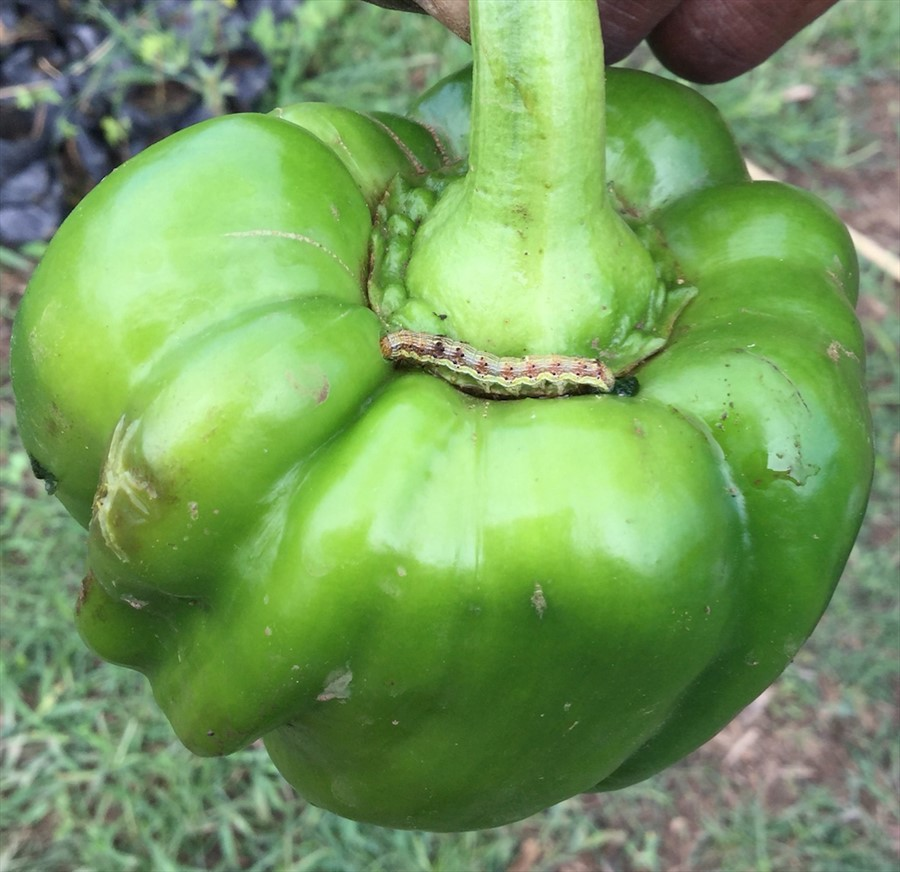Armyworm: (374, 304, 620, 420)
